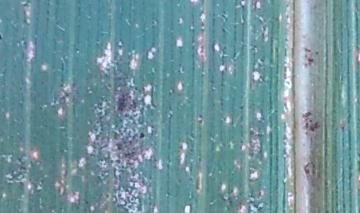tarspot: (303, 160, 317, 177), (309, 122, 320, 132), (301, 110, 312, 119), (138, 130, 145, 140), (307, 56, 314, 66), (199, 45, 205, 55), (304, 121, 309, 131), (238, 104, 245, 111), (1, 32, 4, 41)
